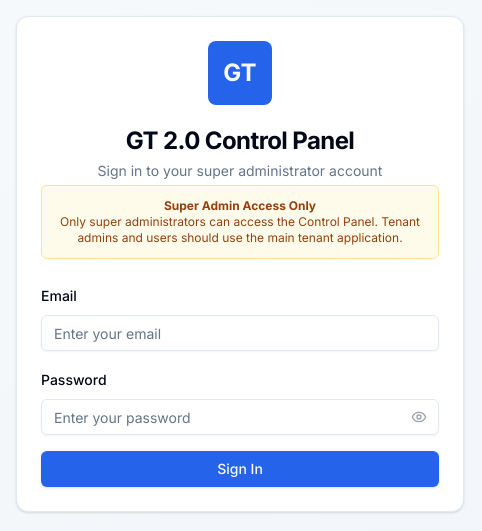
LoginPage › shows loading state during submission
The image size is (482, 531).
In the field labelled "Email": (240, 333) top-left (41, 315), bottom-right (439, 351), type "admin@gt2.dev"
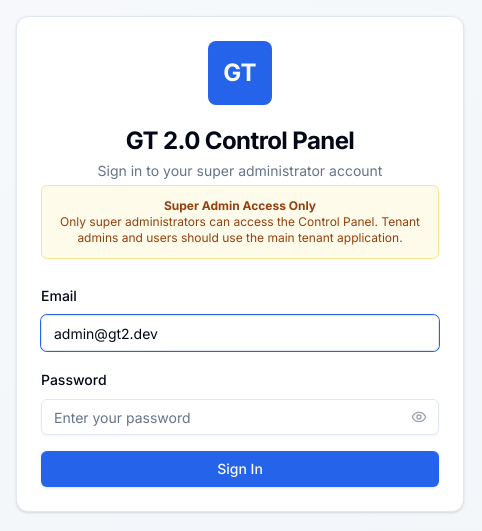
In the password field labelled "Password": (240, 417) top-left (41, 399), bottom-right (439, 435), type "admin123"
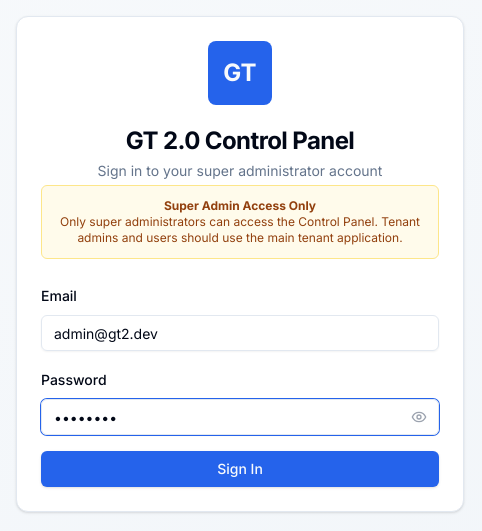
Click the button "Sign In": click(240, 469) top-left (41, 451), bottom-right (439, 487)
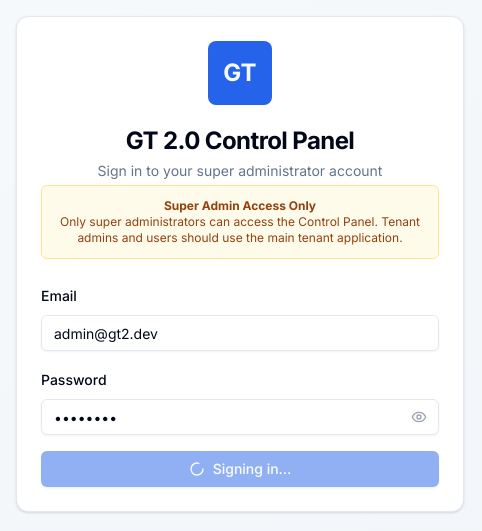
Expected: the button "Signing in..." is disabled, top-left (41, 451), bottom-right (439, 487)
